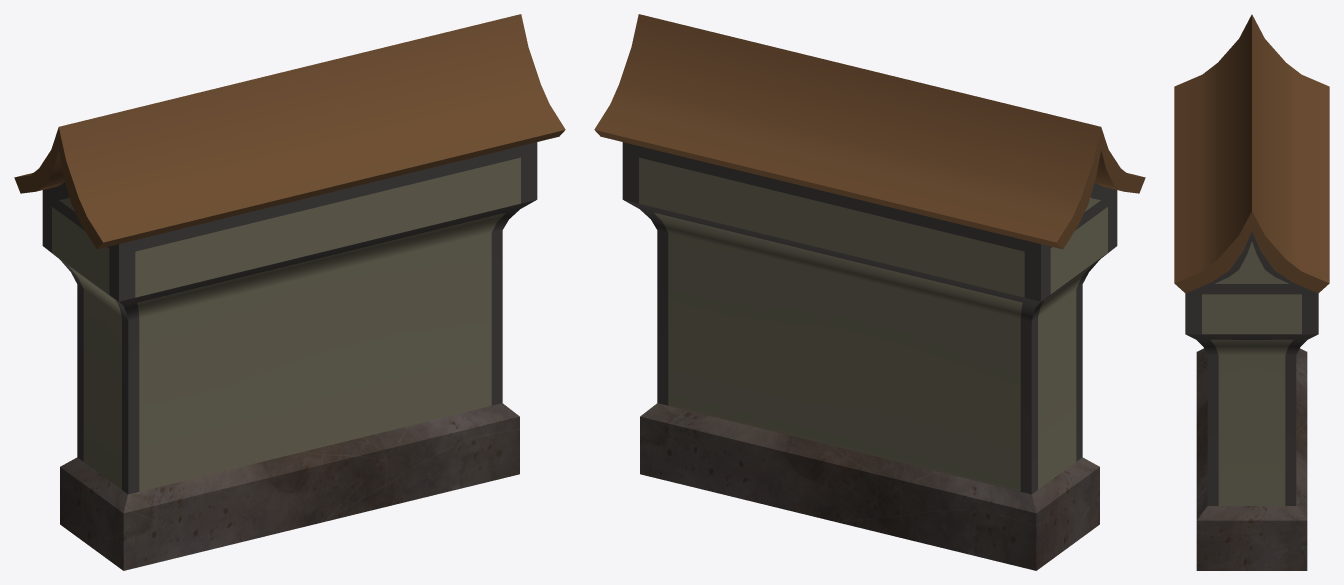
File: HeistTower03.fbx
3 views of the same model, side by side, from view 1: azimuth 30°, elevation 25°; view 2: azimuth 150°, elevation 25°; view 3: azimuth 270°, elevation 25° (orthographic). The views are drawn at different scales.
Visible parts, largest first — view 1: HeistTower03; view 2: HeistTower03; view 3: HeistTower03.
Boxes of the visible parts, x1,y1,x2,y2 form: HeistTower03: [14, 14, 565, 570]; HeistTower03: [594, 14, 1145, 570]; HeistTower03: [1174, 14, 1329, 570].
Size of the model in its own units: 42 by 37.22 by 14.
Materials: 4 (1 with a texture image).
